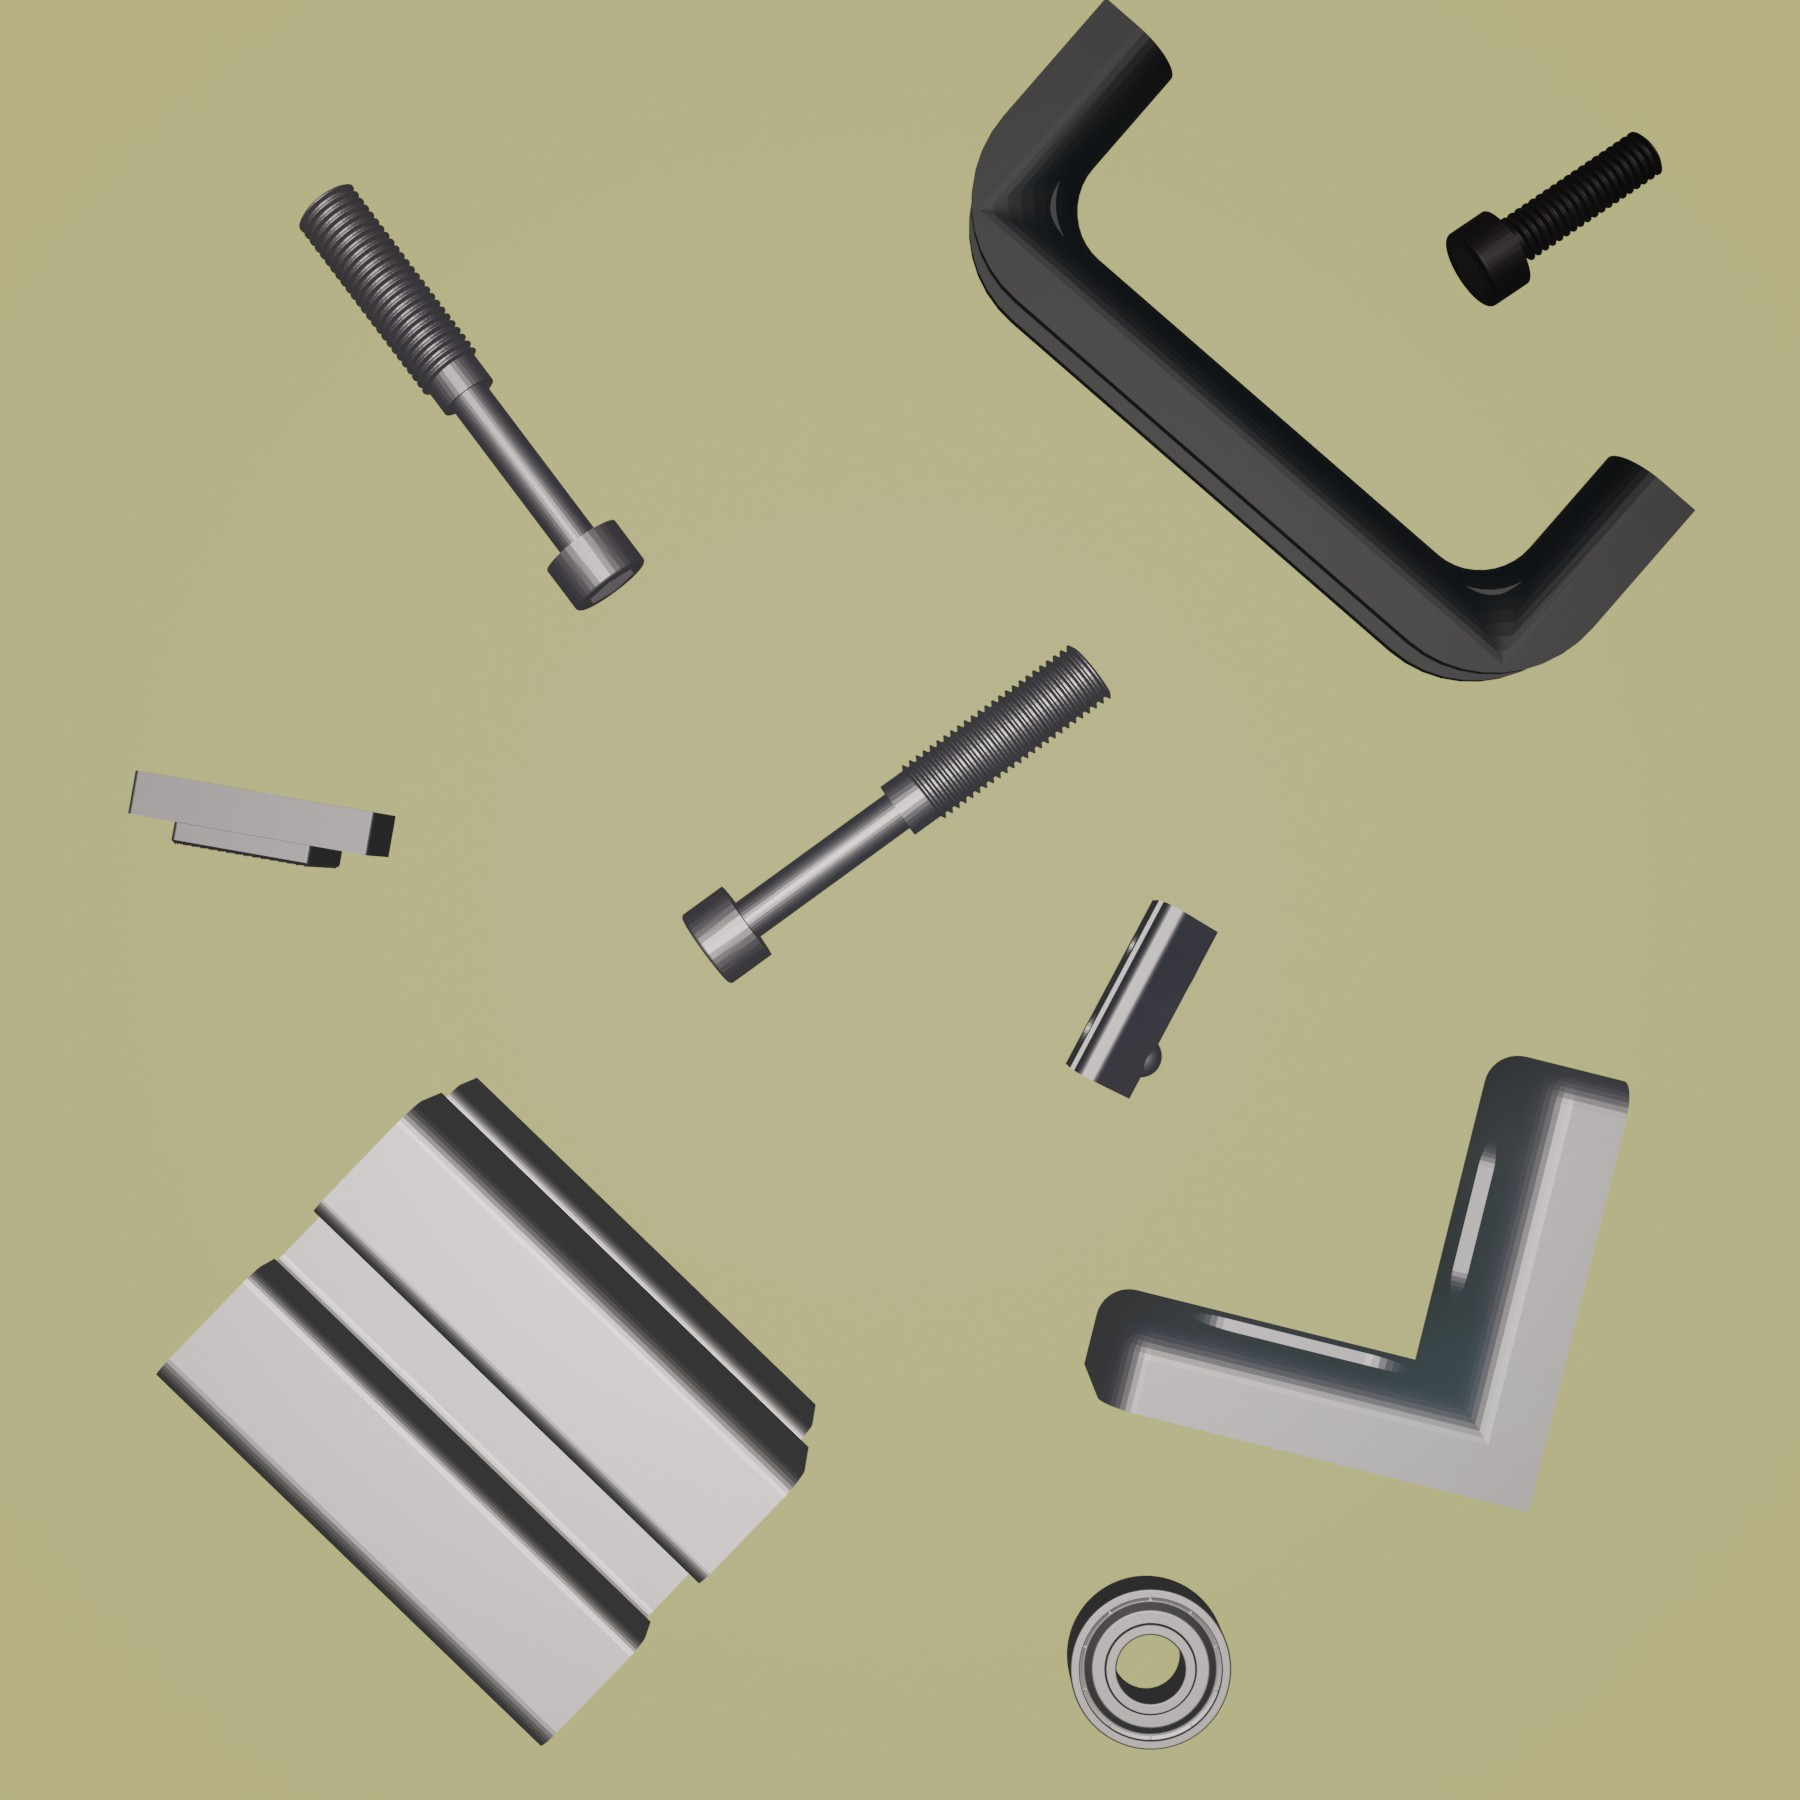Aluminium Extension: (153, 1076, 816, 1751)
Ball Bearing: (1066, 1574, 1231, 1752)
Multiwinkel: (1081, 1053, 1635, 1518)
Pull Handle: (966, 2, 1693, 686)
Shoulder Socket Head Cap Screw: (297, 181, 646, 615), (679, 646, 1113, 986)
Socket Head Cap Screw: (1446, 130, 1666, 308)
T Nut Square: (124, 765, 397, 874)
T Spring Nut: (1066, 897, 1220, 1099)
